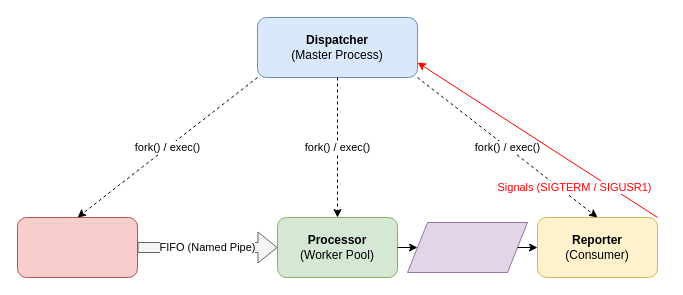
Image size: 683x295. Some labels were removed from this diagram. The centre of each missing label's shape, as x and y in pixels:
Ingester (Producer): the point at 77,247
Shared Memory: the point at 467,247
